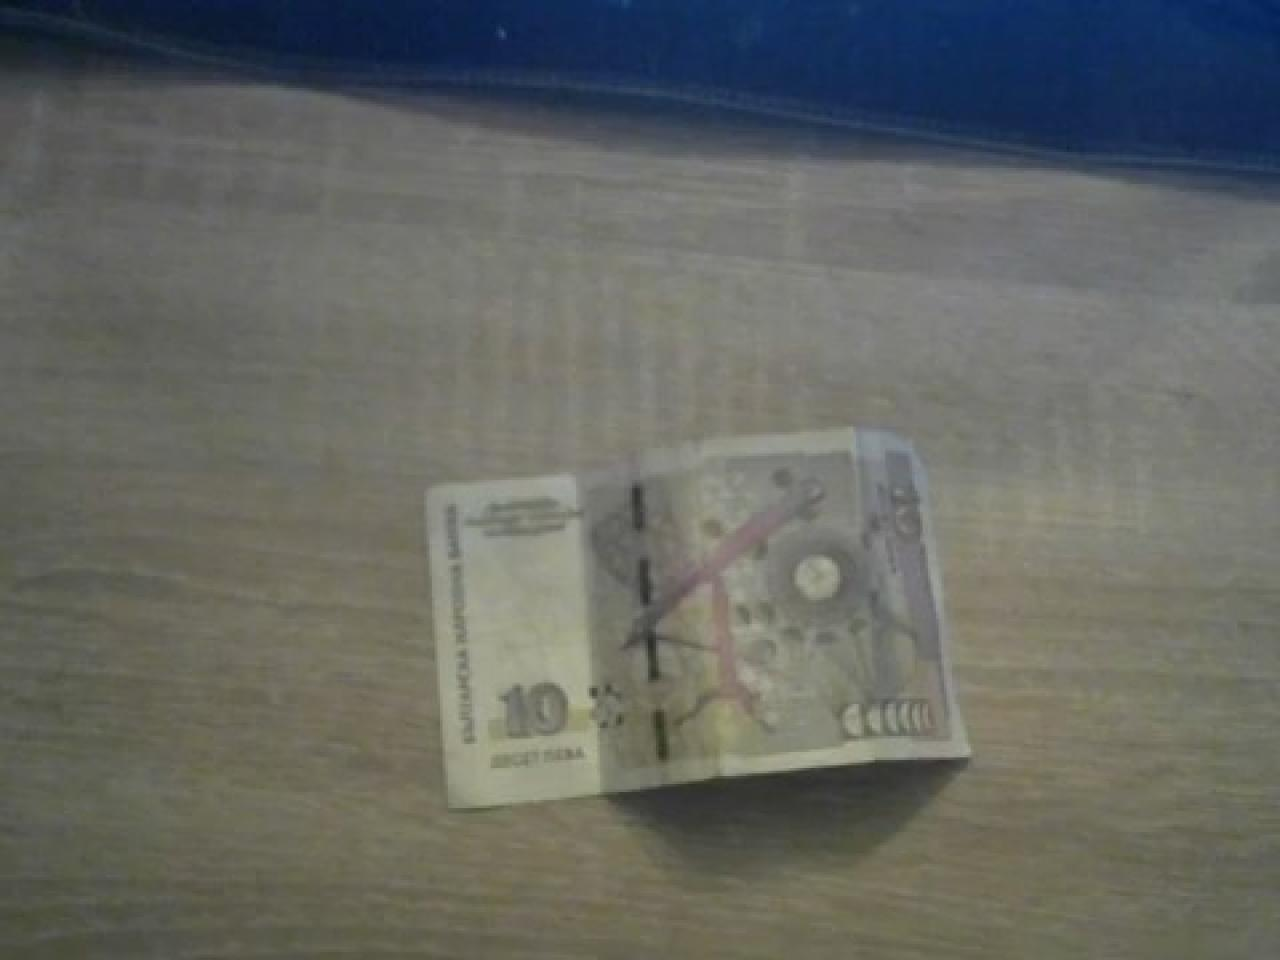10leva: (421, 427, 971, 816)
